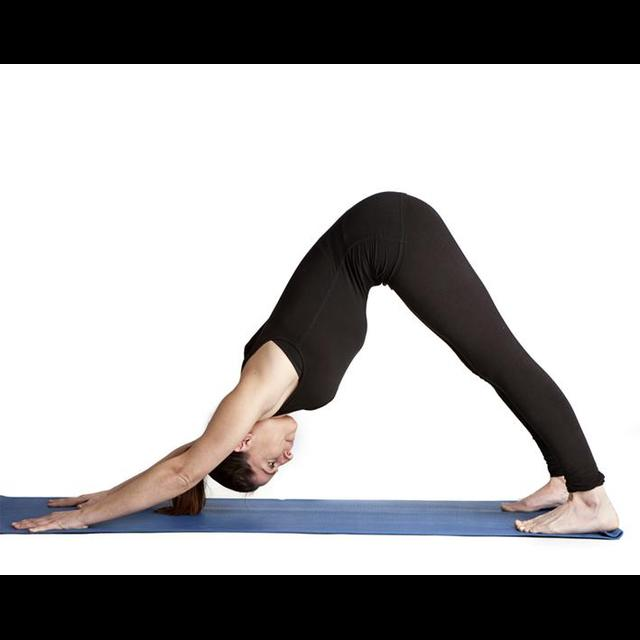Downward-Facing_Dog: (7, 184, 624, 537)
